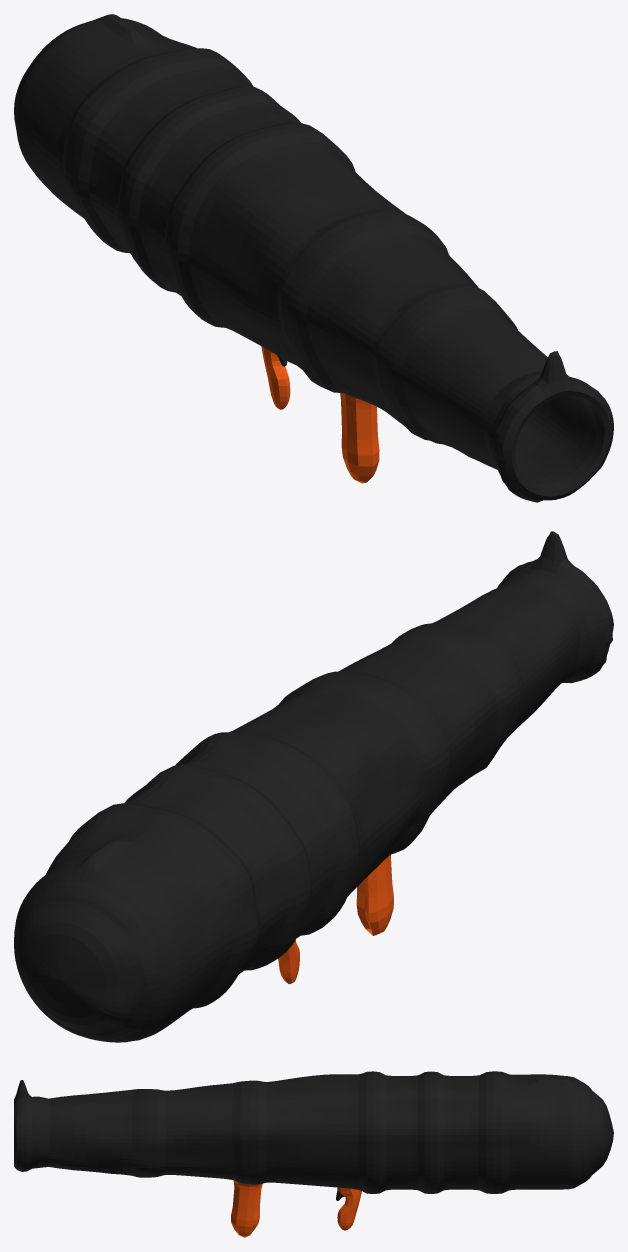
File: Cannon_Launcher.FBX
3 views of the same model, one above another, from view 1: azimuth 30°, elevation 25°; view 2: azimuth 150°, elevation 25°; view 3: azimuth 270°, elevation 25° (orthographic). The views are drawn at different scales.
Visible parts, largest first — view 1: Cannon_Launcher; view 2: Cannon_Launcher; view 3: Cannon_Launcher.
Boxes of the visible parts, <box> form: Cannon_Launcher: <box>14,14,613,502</box>; Cannon_Launcher: <box>14,531,613,1042</box>; Cannon_Launcher: <box>14,1071,613,1237</box>.
Size of what is drawn, in the model's own units: 25.79 by 123 by 36.75.
